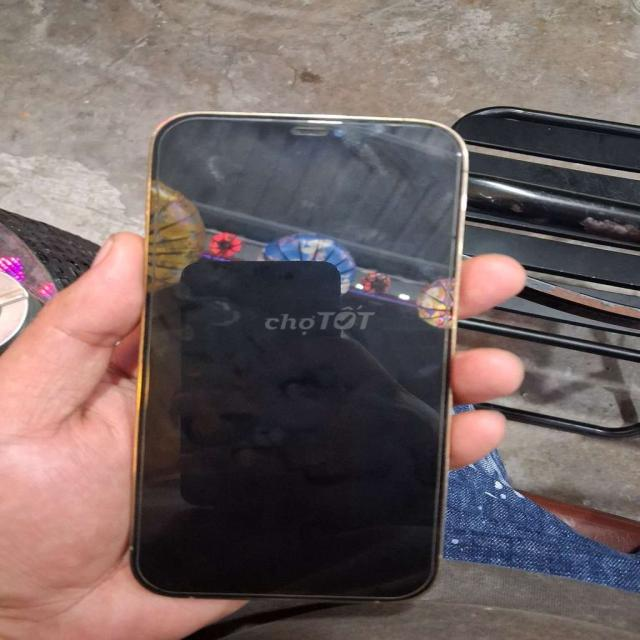gen_12_13: (108, 103, 479, 614)
